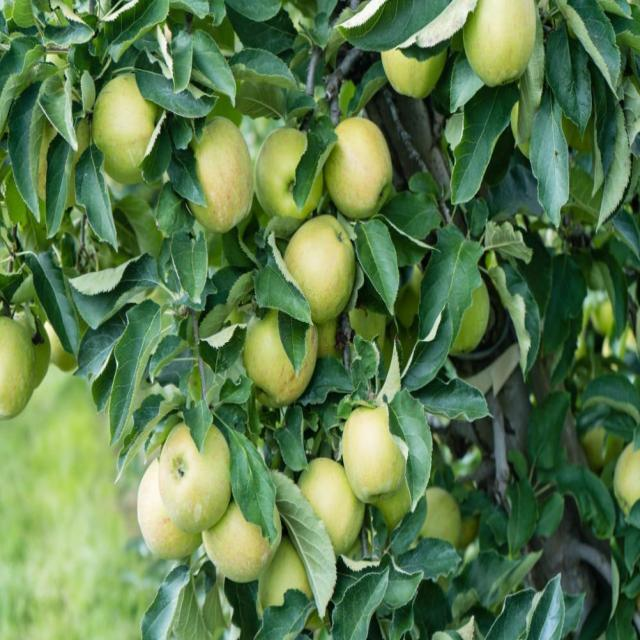Green Apple: (95, 64, 161, 183), (209, 476, 283, 581), (337, 402, 413, 500), (159, 416, 230, 518), (294, 447, 362, 552), (131, 464, 200, 563), (325, 117, 390, 218), (245, 301, 310, 389), (192, 132, 253, 225), (466, 1, 538, 77), (258, 553, 318, 640), (290, 215, 347, 305), (266, 119, 315, 218), (387, 30, 447, 105), (416, 483, 469, 550), (378, 469, 433, 533), (1, 303, 32, 414), (21, 311, 53, 388), (310, 309, 350, 364), (462, 277, 489, 355), (611, 435, 640, 507), (51, 320, 82, 373), (361, 294, 388, 345), (637, 592, 640, 627)
